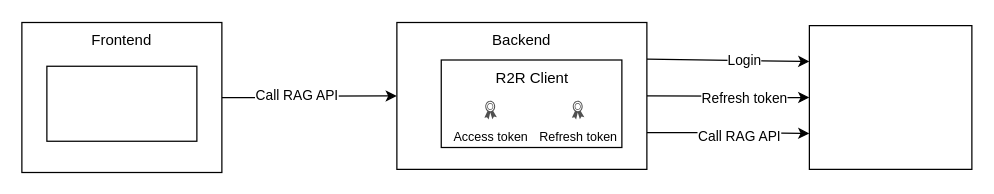
The diagram is 994 pixels wide and 194 high, and some of its shapes have lost their labels. Here are the shapes that lost their labels. From the top down, the centre of each, then its label:
At (121,103): "Guest query UI".
At (890,96): "R2R".
